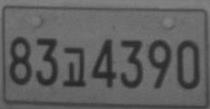0: (175, 38, 201, 90)
3: (119, 39, 144, 89), (35, 37, 59, 86)
4: (91, 38, 117, 88)
8: (8, 35, 32, 84)
9: (147, 38, 172, 88)
고: (61, 46, 86, 87)
